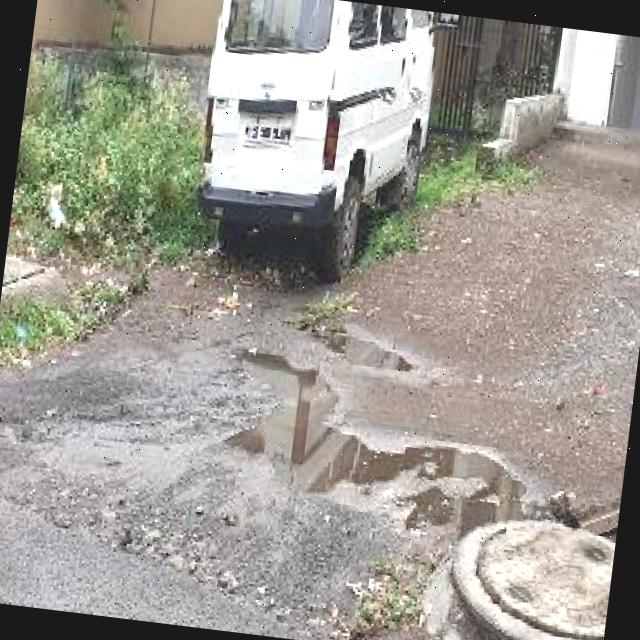stagnation: (204, 341, 538, 539), (269, 294, 440, 383)
